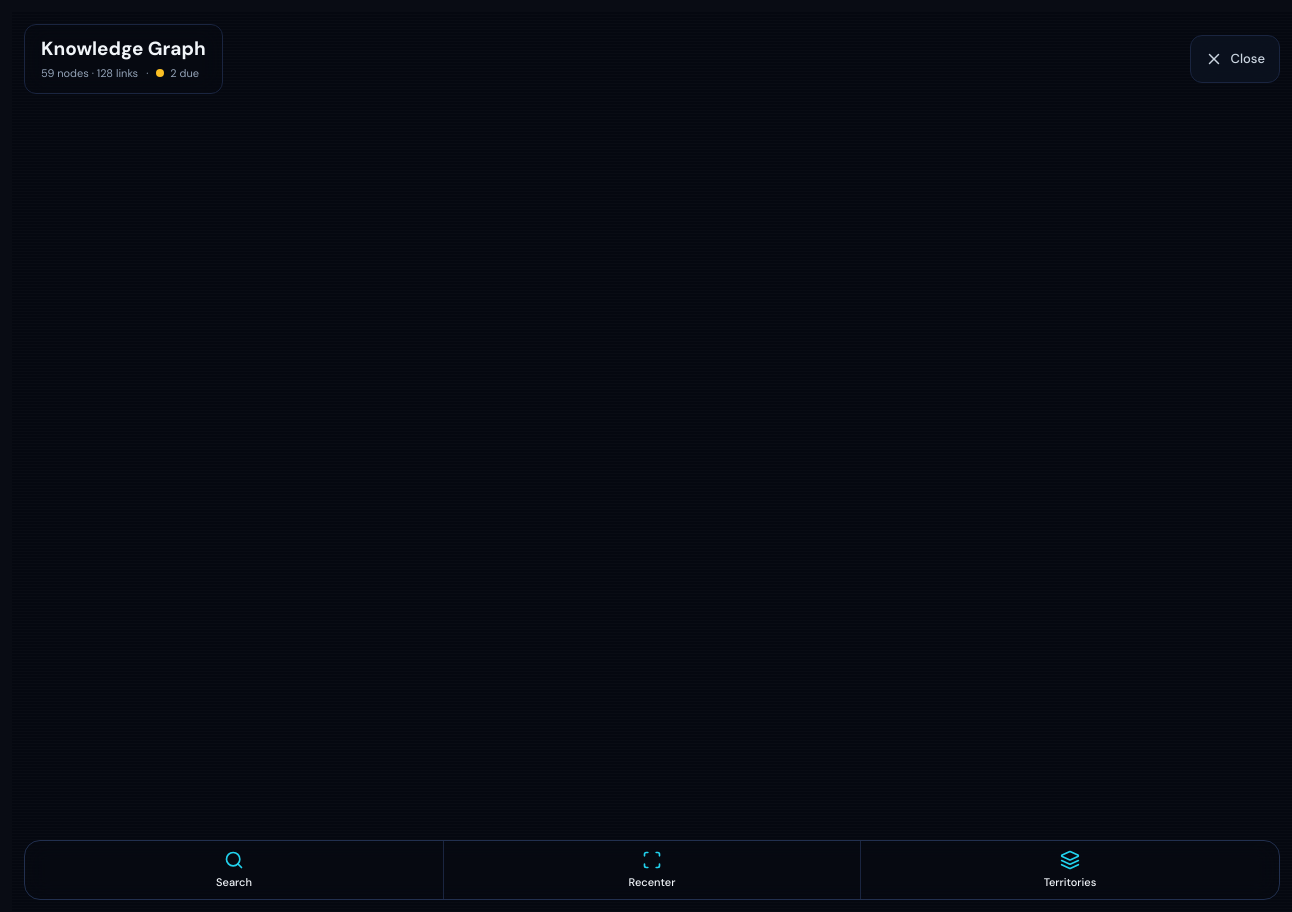
Test: KnowledgeGraph › opens the territory index with search and territory rows
Click the button "Territories". click: {"x": 1070, "y": 870}
box: [861, 841, 1279, 899]
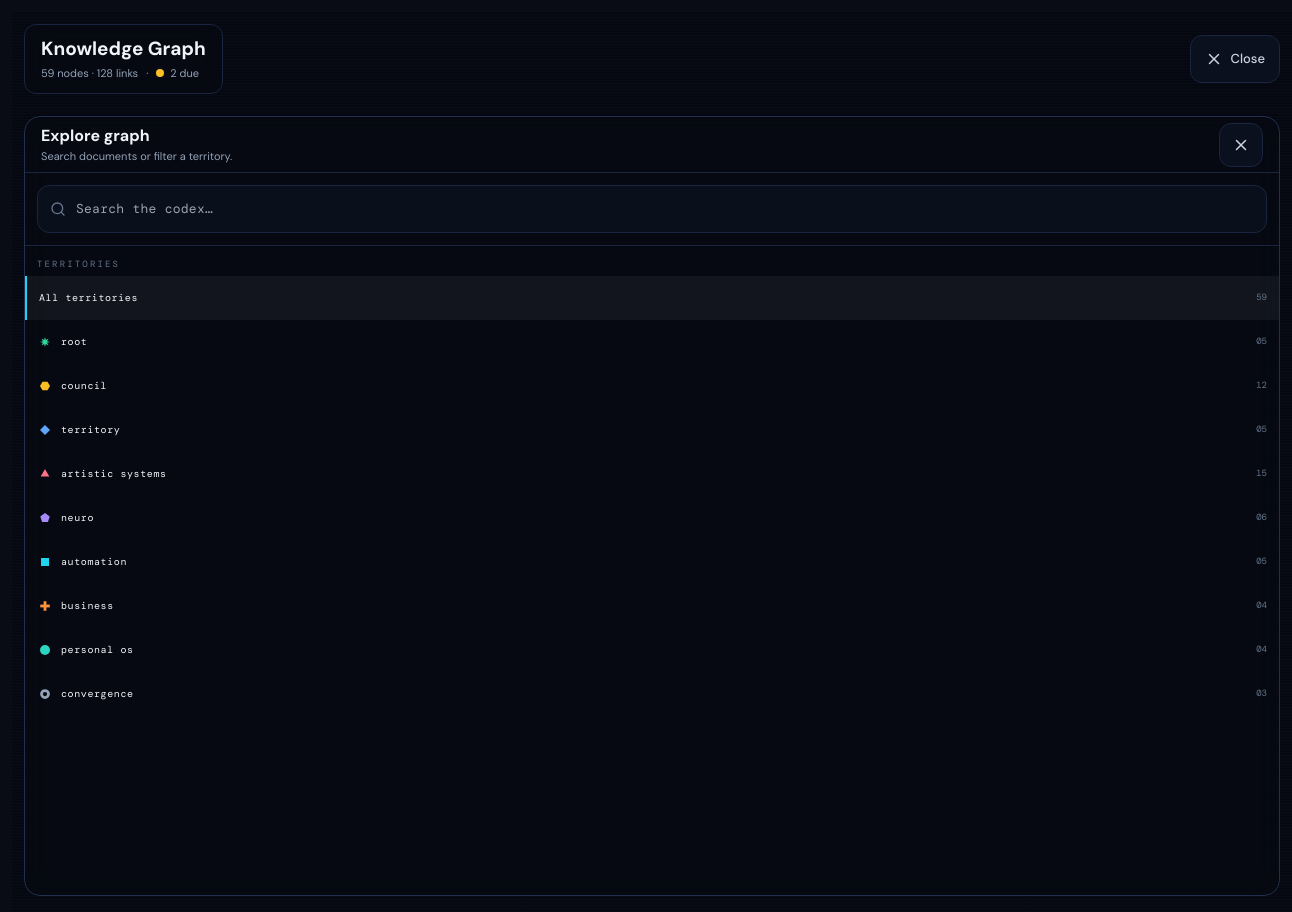
Check: the field with placeholder "Search the codex…" is shown, box [76, 199, 1254, 219]
Check: the button named "close graph explorer" is shown, box [1219, 122, 1263, 166]
Check: the button "All territories 59" is shown, box [25, 276, 1279, 320]
